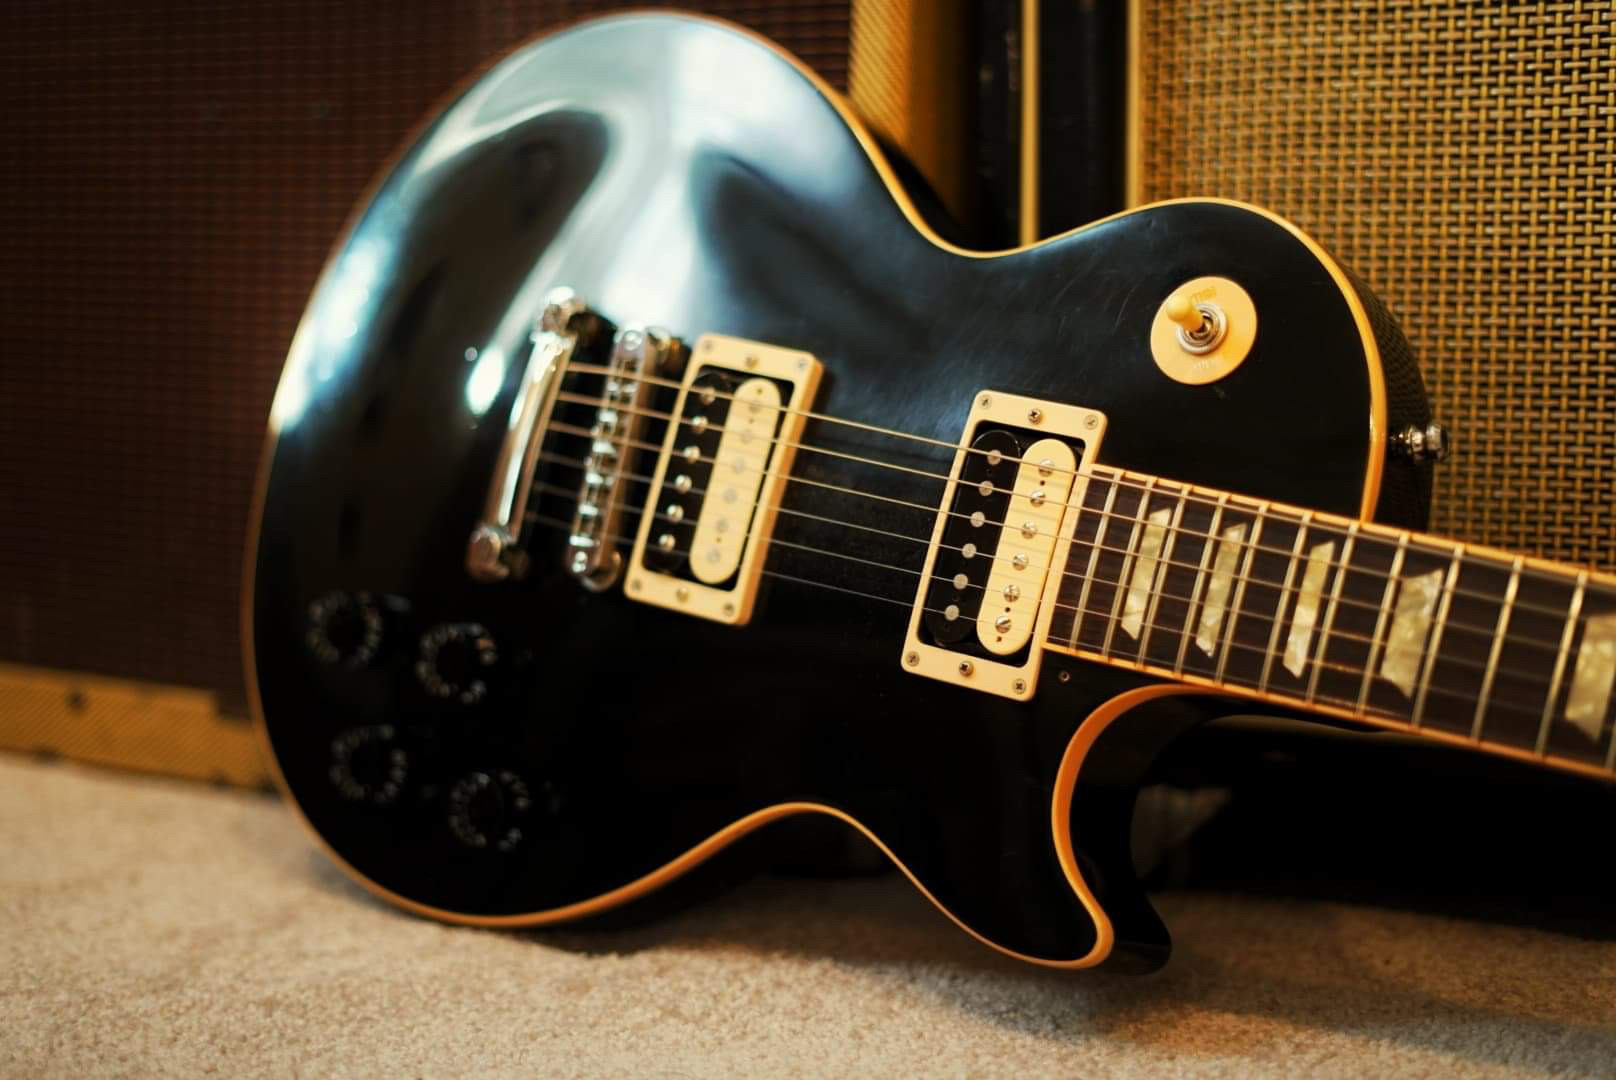guitar: (235, 13, 1606, 1003)
